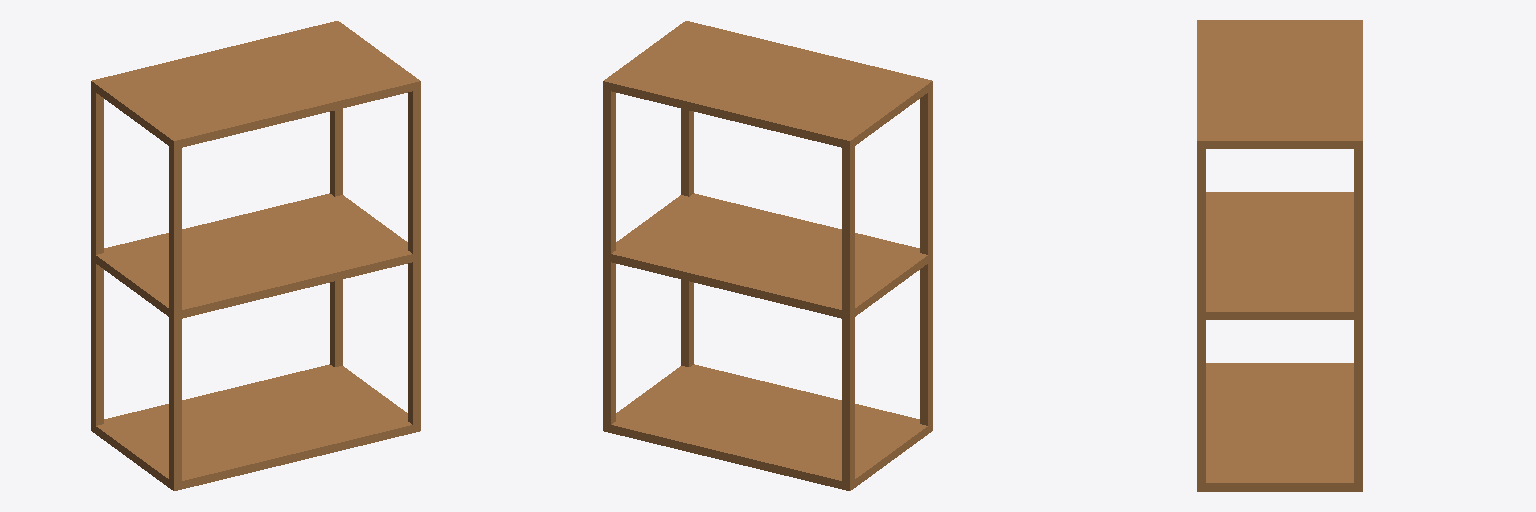
URDF robot description (two_floor_shelf):
<?xml version="1.0"?>
<robot name="two_floor_shelf">
  <!-- Outer dimensions: width=0.31, depth=0.18, height=0.42 -->

  <material name="WoodLight">
    <color rgba="0.72 0.53 0.34 1.0"/>
  </material>

  <link name="base_link">
    <inertial>
      <origin xyz="0 0 0" rpy="0 0 0"/>
      <mass value="0.1"/>
      <inertia ixx="1e-4" ixy="0" ixz="0" iyy="1e-4" iyz="0" izz="1e-4"/>
    </inertial>
  </link>

  <!-- Bottom panel -->
  <link name="bottom_panel">
    <inertial>
      <origin xyz="0 0 0" rpy="0 0 0"/>
      <mass value="0.5"/>
      <inertia ixx="0.002" ixy="0" ixz="0" iyy="0.002" iyz="0" izz="0.002"/>
    </inertial>
    <visual>
      <origin xyz="0 0 0" rpy="0 0 0"/>
      <geometry><box size="0.31 0.18 0.01"/></geometry>
      <material name="WoodLight"/>
    </visual>
    <collision>
      <origin xyz="0 0 0" rpy="0 0 0"/>
      <geometry><box size="0.31 0.18 0.01"/></geometry>
    </collision>
  </link>
  <joint name="bottom_panel_joint" type="fixed">
    <parent link="base_link"/>
    <child link="bottom_panel"/>
    <origin xyz="0 0 0.005" rpy="0 0 0"/>
  </joint>

  <!-- Top panel -->
  <link name="top_panel">
    <inertial>
      <origin xyz="0 0 0" rpy="0 0 0"/>
      <mass value="0.5"/>
      <inertia ixx="0.002" ixy="0" ixz="0" iyy="0.002" iyz="0" izz="0.002"/>
    </inertial>
    <visual>
      <origin xyz="0 0 0" rpy="0 0 0"/>
      <geometry><box size="0.31 0.18 0.01"/></geometry>
      <material name="WoodLight"/>
    </visual>
    <collision>
      <origin xyz="0 0 0" rpy="0 0 0"/>
      <geometry><box size="0.31 0.18 0.01"/></geometry>
    </collision>
  </link>
  <joint name="top_panel_joint" type="fixed">
    <parent link="base_link"/>
    <child link="top_panel"/>
    <origin xyz="0 0 0.415" rpy="0 0 0"/>
  </joint>

  <!-- Middle divider (creates two floors) -->
  <link name="middle_panel">
    <inertial>
      <origin xyz="0 0 0" rpy="0 0 0"/>
      <mass value="0.5"/>
      <inertia ixx="0.002" ixy="0" ixz="0" iyy="0.002" iyz="0" izz="0.002"/>
    </inertial>
    <visual>
      <origin xyz="0 0 0" rpy="0 0 0"/>
      <geometry><box size="0.31 0.18 0.01"/></geometry>
      <material name="WoodLight"/>
    </visual>
    <collision>
      <origin xyz="0 0 0" rpy="0 0 0"/>
      <geometry><box size="0.31 0.18 0.01"/></geometry>
    </collision>
  </link>
  <joint name="middle_panel_joint" type="fixed">
    <parent link="base_link"/>
    <child link="middle_panel"/>
    <origin xyz="0 0 0.21" rpy="0 0 0"/>
  </joint>

  <!-- Corner struts -->
  <link name="front_left_strut">
    <inertial>
      <origin xyz="0 0 0" rpy="0 0 0"/>
      <mass value="0.2"/>
      <inertia ixx="5e-4" ixy="0" ixz="0" iyy="5e-4" iyz="0" izz="5e-4"/>
    </inertial>
    <visual>
      <origin xyz="0 0 0" rpy="0 0 0"/>
      <geometry><box size="0.01 0.01 0.42"/></geometry>
      <material name="WoodLight"/>
    </visual>
    <collision>
      <origin xyz="0 0 0" rpy="0 0 0"/>
      <geometry><box size="0.01 0.01 0.42"/></geometry>
    </collision>
  </link>
  <joint name="front_left_strut_joint" type="fixed">
    <parent link="base_link"/>
    <child link="front_left_strut"/>
    <origin xyz="-0.15 0.085 0.21" rpy="0 0 0"/>
  </joint>

  <link name="front_right_strut">
    <inertial>
      <origin xyz="0 0 0" rpy="0 0 0"/>
      <mass value="0.2"/>
      <inertia ixx="5e-4" ixy="0" ixz="0" iyy="5e-4" iyz="0" izz="5e-4"/>
    </inertial>
    <visual>
      <origin xyz="0 0 0" rpy="0 0 0"/>
      <geometry><box size="0.01 0.01 0.42"/></geometry>
      <material name="WoodLight"/>
    </visual>
    <collision>
      <origin xyz="0 0 0" rpy="0 0 0"/>
      <geometry><box size="0.01 0.01 0.42"/></geometry>
    </collision>
  </link>
  <joint name="front_right_strut_joint" type="fixed">
    <parent link="base_link"/>
    <child link="front_right_strut"/>
    <origin xyz="0.15 0.085 0.21" rpy="0 0 0"/>
  </joint>

  <link name="back_left_strut">
    <inertial>
      <origin xyz="0 0 0" rpy="0 0 0"/>
      <mass value="0.2"/>
      <inertia ixx="5e-4" ixy="0" ixz="0" iyy="5e-4" iyz="0" izz="5e-4"/>
    </inertial>
    <visual>
      <origin xyz="0 0 0" rpy="0 0 0"/>
      <geometry><box size="0.01 0.01 0.42"/></geometry>
      <material name="WoodLight"/>
    </visual>
    <collision>
      <origin xyz="0 0 0" rpy="0 0 0"/>
      <geometry><box size="0.01 0.01 0.42"/></geometry>
    </collision>
  </link>
  <joint name="back_left_strut_joint" type="fixed">
    <parent link="base_link"/>
    <child link="back_left_strut"/>
    <origin xyz="-0.15 -0.085 0.21" rpy="0 0 0"/>
  </joint>

  <link name="back_right_strut">
    <inertial>
      <origin xyz="0 0 0" rpy="0 0 0"/>
      <mass value="0.2"/>
      <inertia ixx="5e-4" ixy="0" ixz="0" iyy="5e-4" iyz="0" izz="5e-4"/>
    </inertial>
    <visual>
      <origin xyz="0 0 0" rpy="0 0 0"/>
      <geometry><box size="0.01 0.01 0.42"/></geometry>
      <material name="WoodLight"/>
    </visual>
    <collision>
      <origin xyz="0 0 0" rpy="0 0 0"/>
      <geometry><box size="0.01 0.01 0.42"/></geometry>
    </collision>
  </link>
  <joint name="back_right_strut_joint" type="fixed">
    <parent link="base_link"/>
    <child link="back_right_strut"/>
    <origin xyz="0.15 -0.085 0.21" rpy="0 0 0"/>
  </joint>

</robot>

--- Facts derived from the render (not from the file) ---
Views: 3 orthographic renders of the robot side by side, from view 1: azimuth 30°, elevation 25°; view 2: azimuth 150°, elevation 25°; view 3: azimuth 270°, elevation 25°.
Model two_floor_shelf with 8 links and 7 joints (7 fixed), rooted at base_link, posed every joint at zero.
Links seen in each view (by area): view 1: top_panel, bottom_panel, middle_panel, back_left_strut, back_right_strut, front_left_strut, front_right_strut; view 2: top_panel, middle_panel, bottom_panel, front_left_strut, front_right_strut, back_left_strut, back_right_strut; view 3: top_panel, bottom_panel, middle_panel, front_right_strut, back_right_strut.
Boxes of the visible links, x1,y1,x2,y2 form: top_panel: (91, 21, 420, 148); bottom_panel: (91, 364, 420, 490); middle_panel: (91, 193, 420, 319); back_left_strut: (169, 136, 181, 490); back_right_strut: (408, 78, 420, 431); front_left_strut: (91, 83, 103, 433); front_right_strut: (330, 21, 342, 366); top_panel: (603, 21, 932, 148); middle_panel: (603, 193, 932, 319); bottom_panel: (603, 364, 932, 490); front_left_strut: (842, 138, 854, 490); front_right_strut: (603, 78, 615, 432); back_left_strut: (920, 82, 932, 432); back_right_strut: (681, 23, 693, 366); top_panel: (1197, 20, 1362, 148); bottom_panel: (1197, 363, 1362, 491); middle_panel: (1197, 192, 1362, 319); front_right_strut: (1354, 137, 1362, 491); back_right_strut: (1197, 137, 1205, 491).
Bounding box of the posed robot: 0.31 × 0.18 × 0.42 m (x, y, z).
Geometry: primitives only (box / cylinder / sphere), no mesh files.
